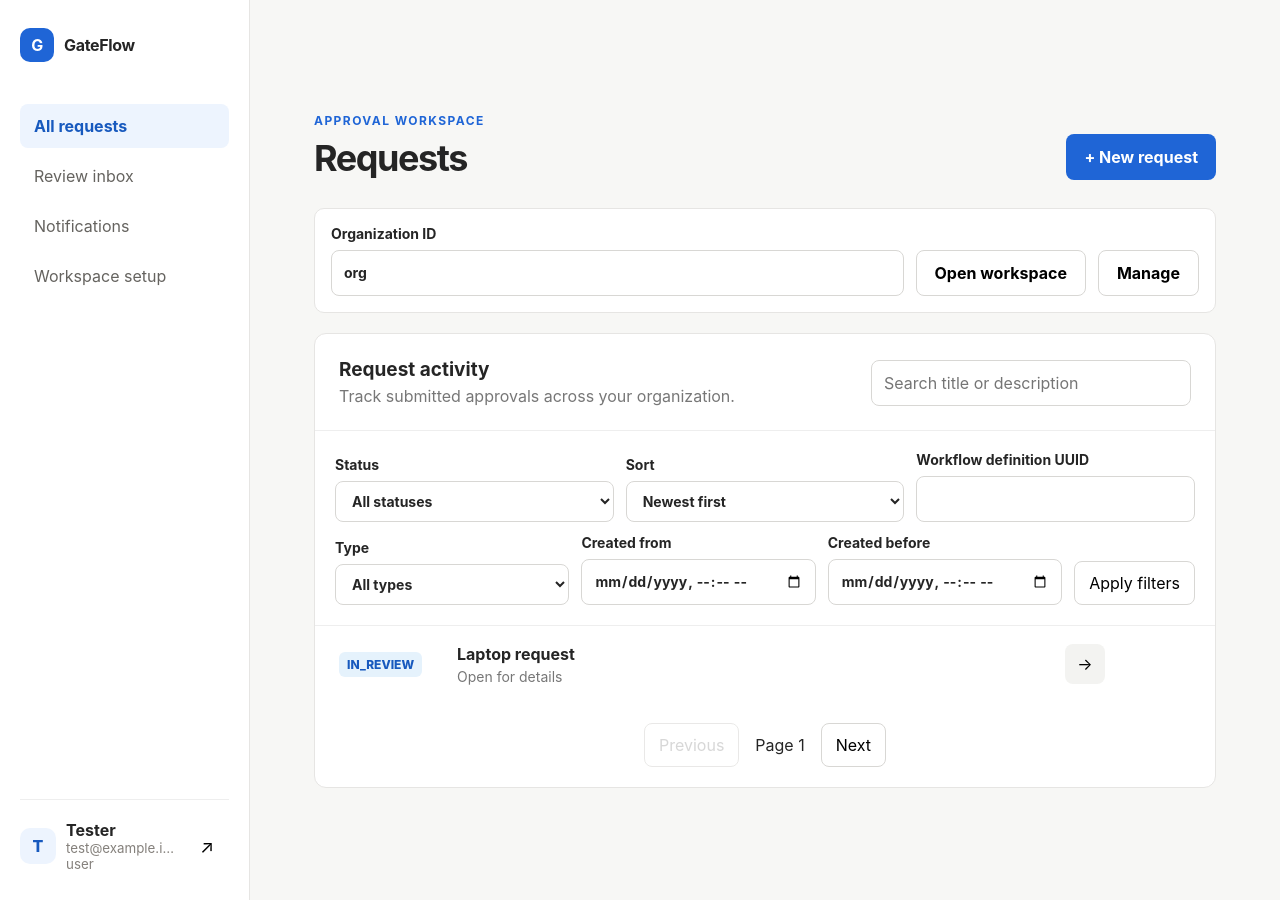
Test: shows logout errors and keeps the session UI until successful logout
Click the button named "Sign out".
click(207, 846)  # box [185,824,229,868]
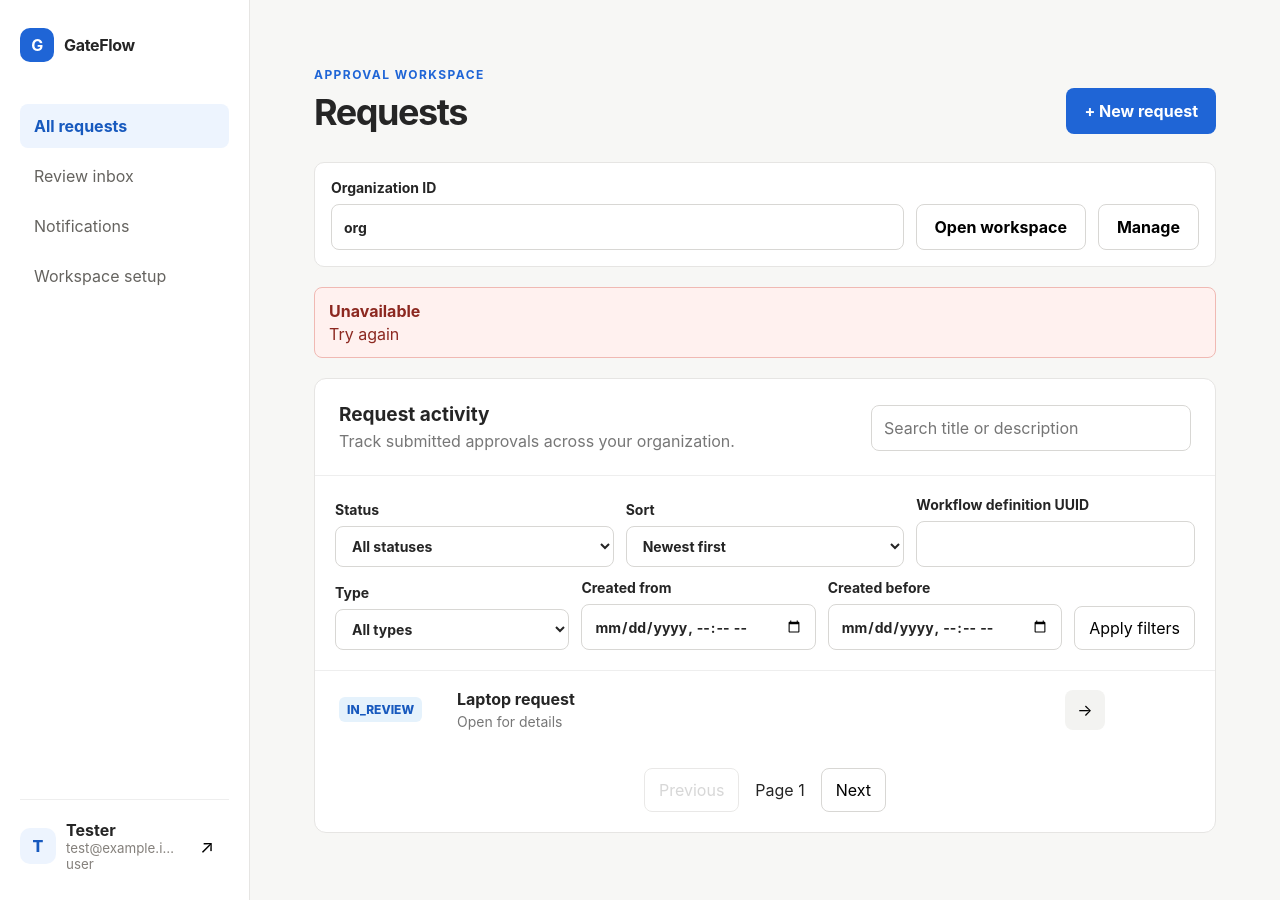
Expected: the text "Tester" is shown, [66,820,116,840]
Now the text "Try again" is shown, box [329,324,399,344]
